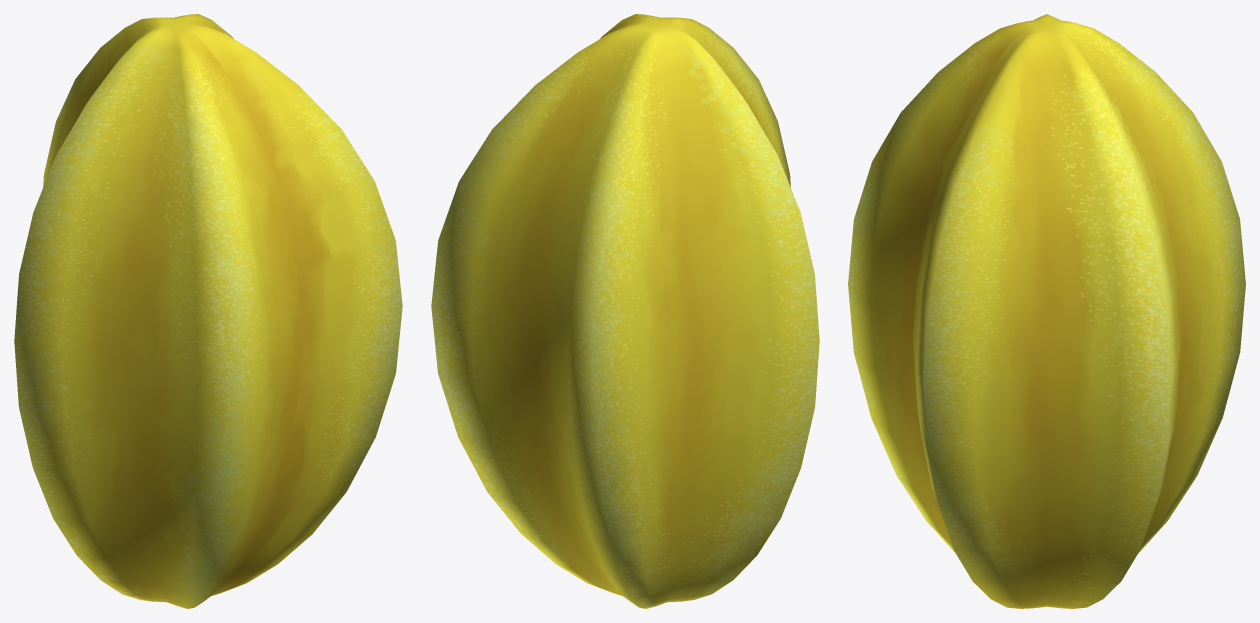
Rendered from StarTreeFruit.fbx.
3 renders of one model, left to right at view 1: azimuth 30°, elevation 25°; view 2: azimuth 150°, elevation 25°; view 3: azimuth 270°, elevation 25°, orthographic.
Parts seen in each view (by area): view 1: StarTreeFruit; view 2: StarTreeFruit; view 3: StarTreeFruit.
Boxes of the visible parts, x1,y1,x2,y2 form: StarTreeFruit: (14,14,402,608); StarTreeFruit: (431,14,819,608); StarTreeFruit: (848,14,1245,608).
Size of the model in its own units: 89.18 by 149 by 93.77.
1 material, 1 textured.
